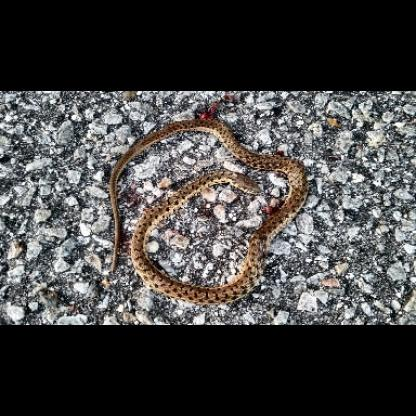Snake: (110, 115, 305, 306)
